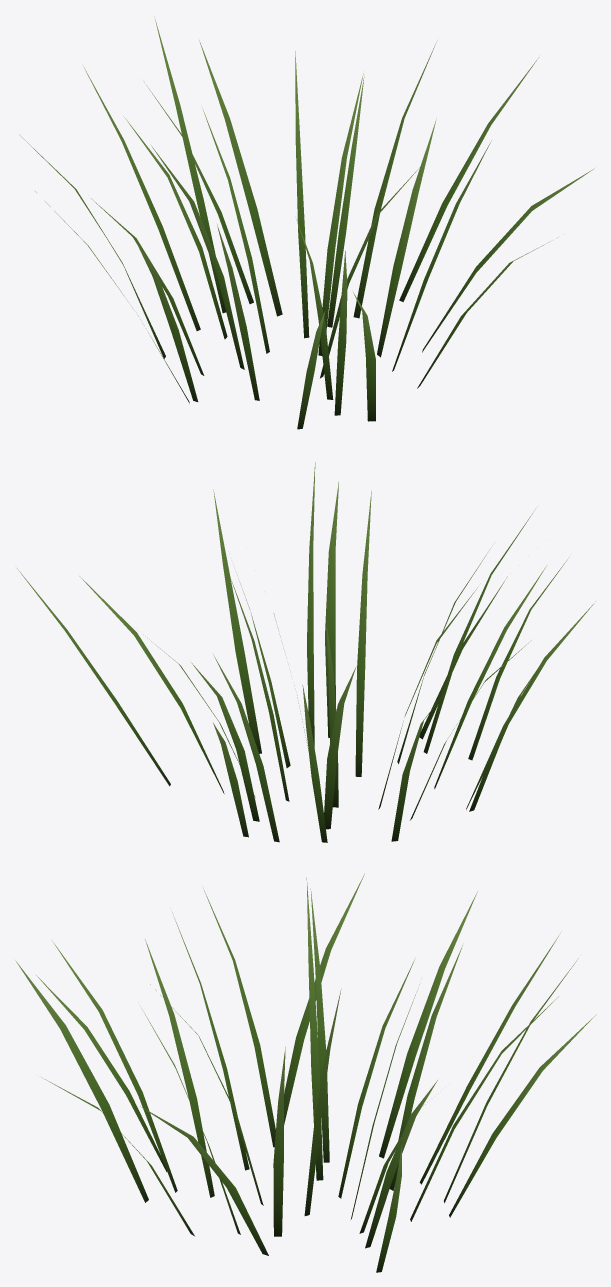
The model's file is grass_tuft.glb.
The picture shows the model from 3 angles, top to bottom: view 1: azimuth 30°, elevation 25°; view 2: azimuth 150°, elevation 25°; view 3: azimuth 270°, elevation 25°; orthographic projection. The views are drawn at different scales.
Parts seen in each view (by area): view 1: Grass_Short_A_Skirt15; view 2: Grass_Short_A_Skirt15; view 3: Grass_Short_A_Skirt15.
Part boxes in pixels (x1=…): Grass_Short_A_Skirt15: x1=19, y1=16, x2=594, y2=429; Grass_Short_A_Skirt15: x1=17, y1=462, x2=595, y2=842; Grass_Short_A_Skirt15: x1=15, y1=873, x2=596, y2=1272.
Size of the model in its own units: 0.6856 by 0.32 by 0.6503.
